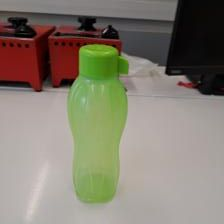bottle: (63, 42, 130, 206)
